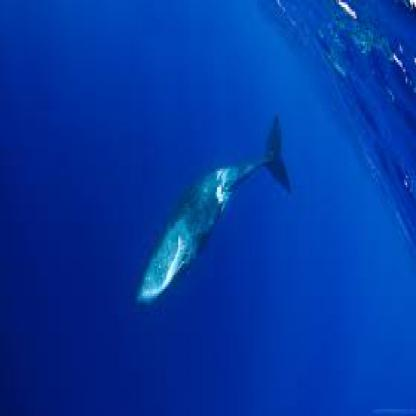sperm_whale: (134, 104, 294, 356)
